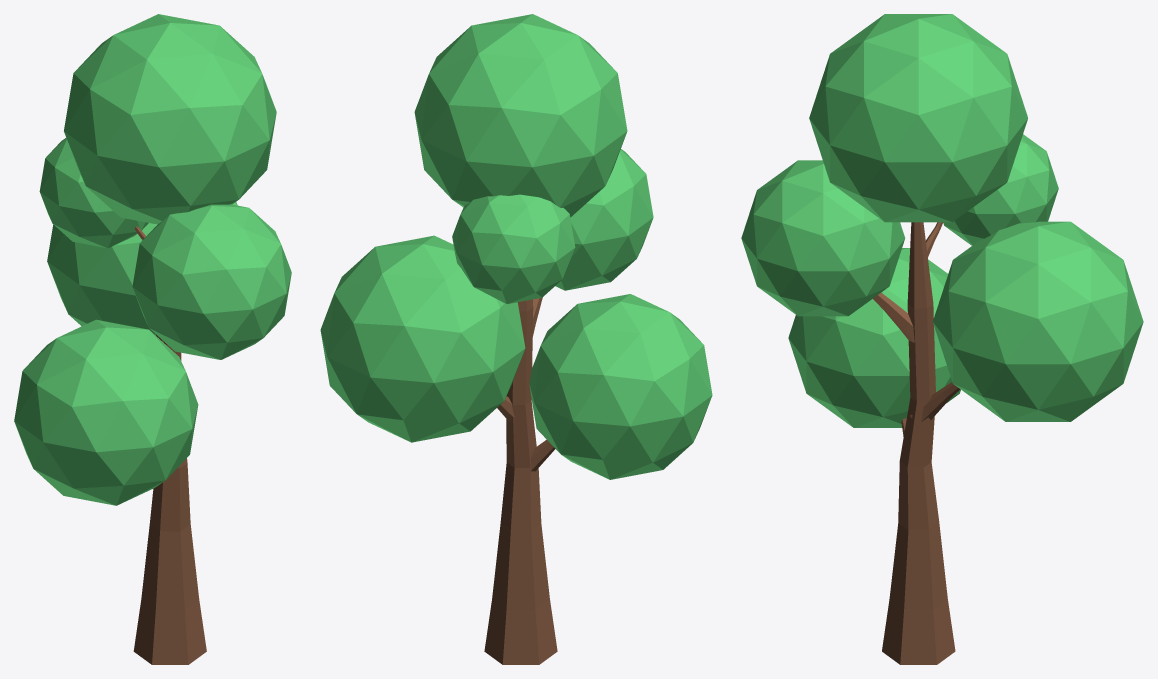
The model's file is tree.fbx.
3 renders of one model, left to right at view 1: azimuth 30°, elevation 25°; view 2: azimuth 150°, elevation 25°; view 3: azimuth 270°, elevation 25°, orthographic.
Parts seen in each view (by area): view 1: tree; view 2: tree; view 3: tree.
Part boxes in pixels (x1,y1,x2,y2): tree: (14,14,291,664); tree: (320,14,712,664); tree: (741,14,1143,664).
Bounding box in the file's own units: 2.65 × 5.61 × 3.23.
